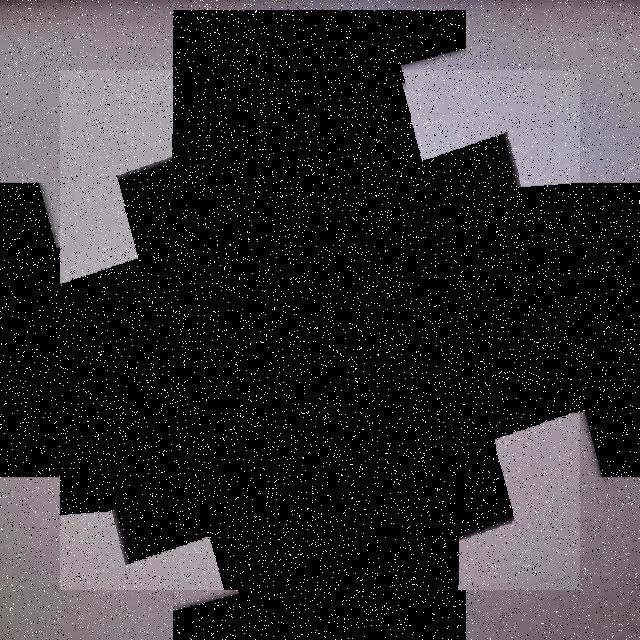lima puluh ribu rupiah: (60, 70, 580, 590)
